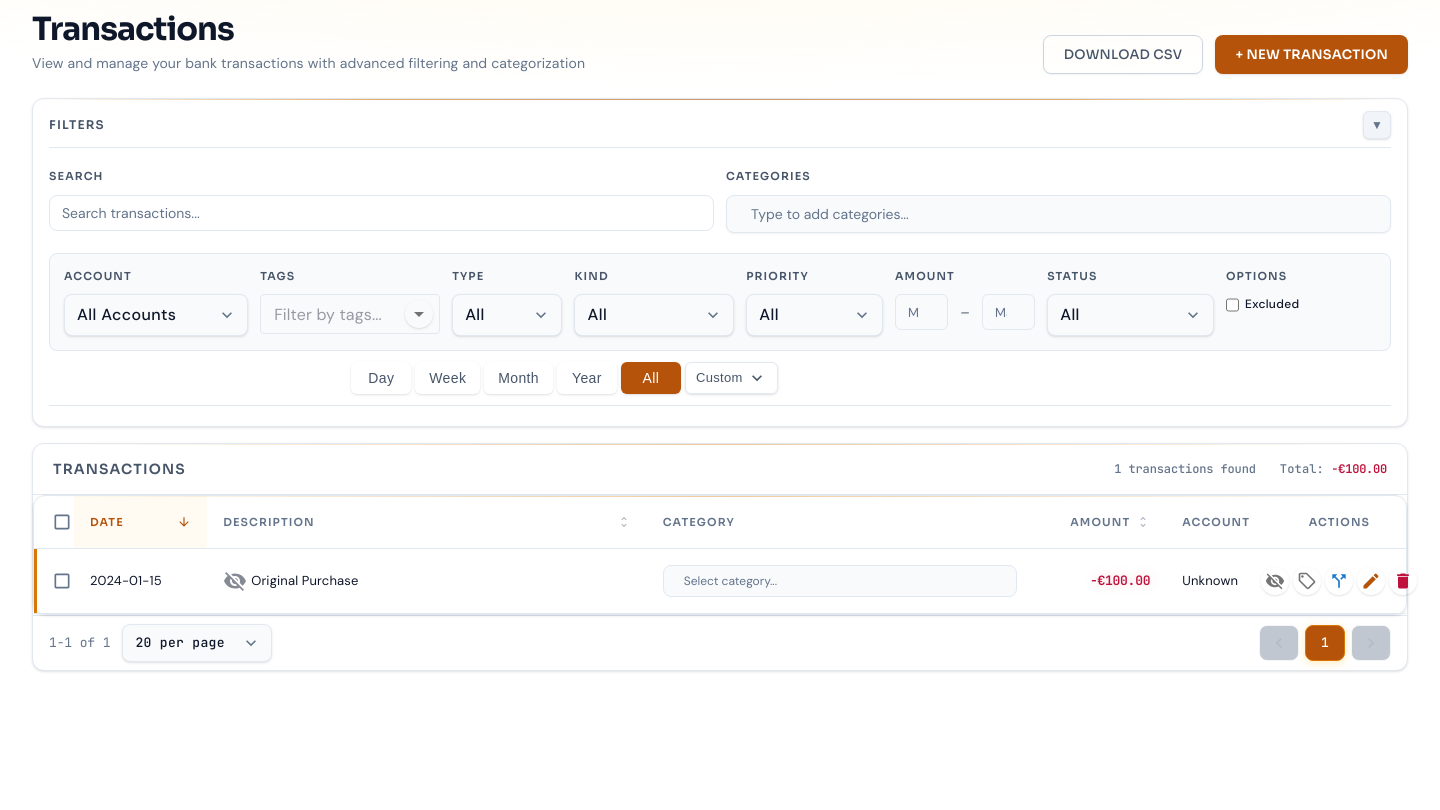
Test: Transaction Split › AC2: Delete Split action accessible on split parents via the split dialog › split dialog shows a delete split button when transaction is a split parent
The width and height of the screenshot is (1440, 810).
expect the text "Original Purchase" is shown: met, box [223,569,358,593]
Step 1. Click the button named "split" → [1339, 581], box [1325,567,1353,595]
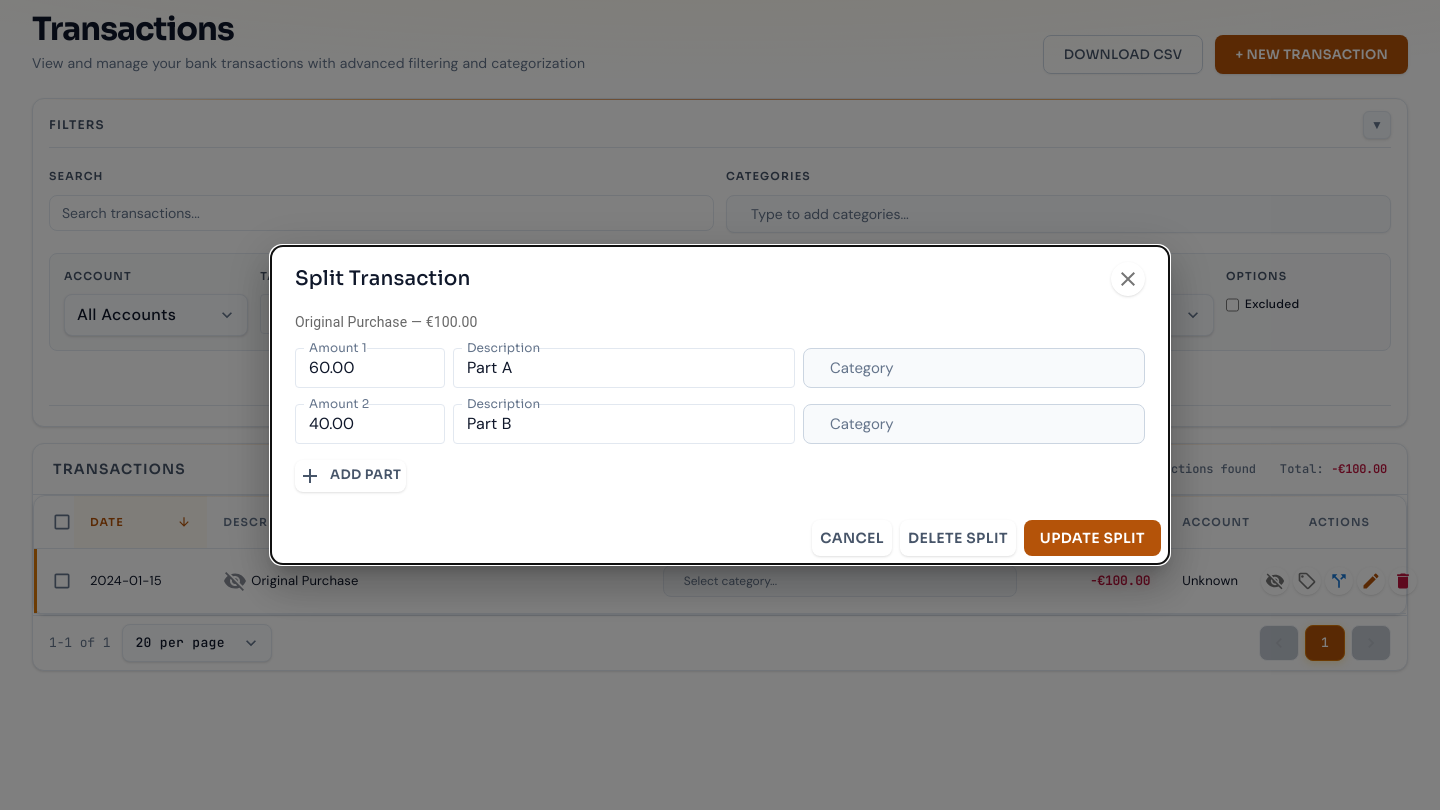
expect the button "Delete Split" is shown: met, box [900,520,1016,556]
